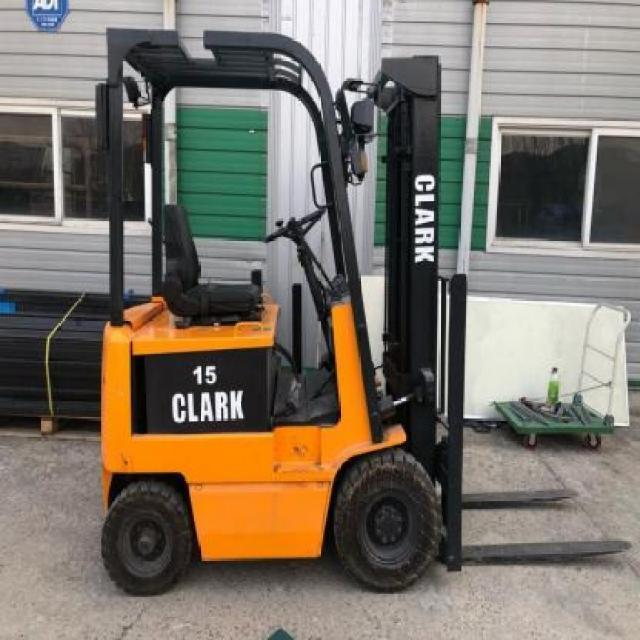forklift: (97, 38, 444, 589)
